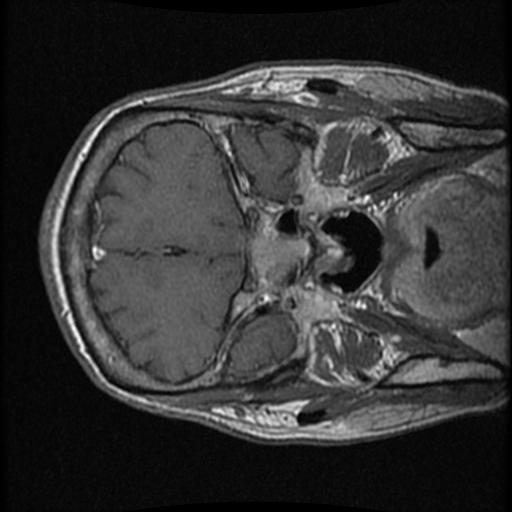pituitary tumour: (252, 228, 304, 286)
